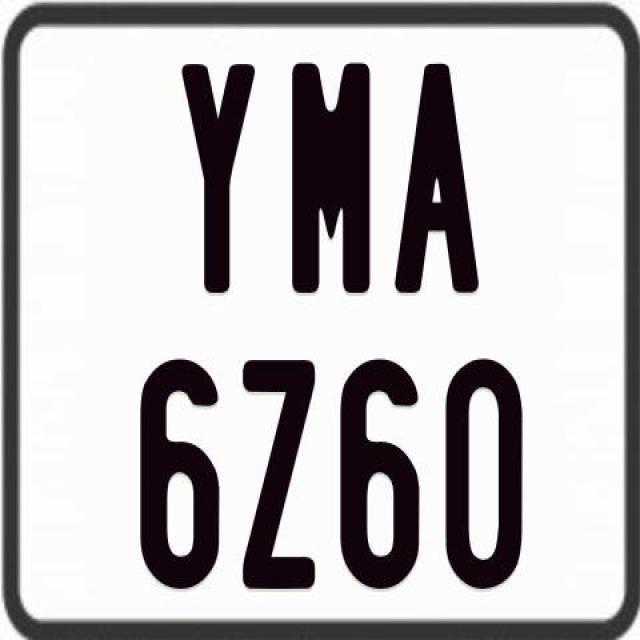0: (446, 358, 526, 596)
6: (339, 355, 422, 592), (138, 356, 220, 588)
A: (394, 63, 482, 294)
M: (290, 61, 374, 293)
Y: (178, 64, 250, 302)
Z: (238, 357, 316, 586)
